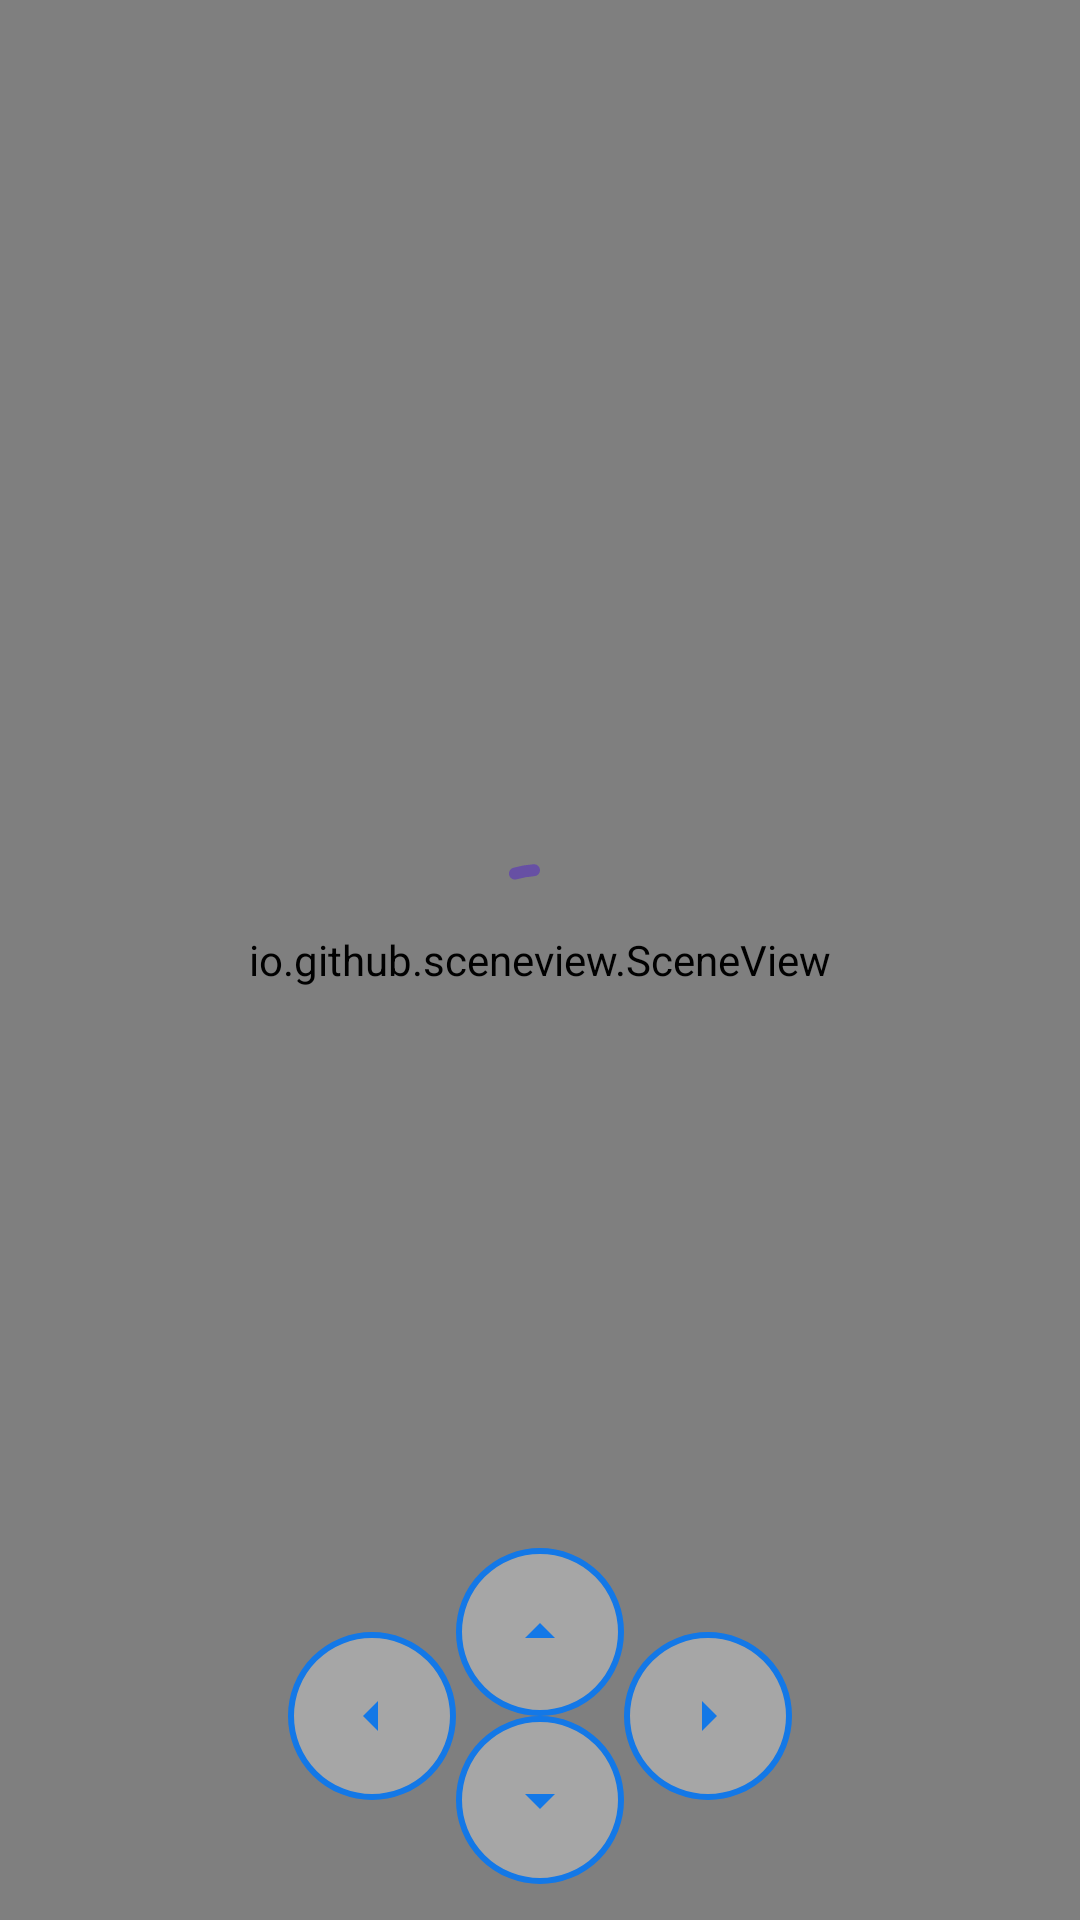

Where to tap for icons on this 1080px x 1920px app screen, as (x,y):
down: (540,1800)
left: (372,1716)
right: (708,1716)
top: (540,1632)
